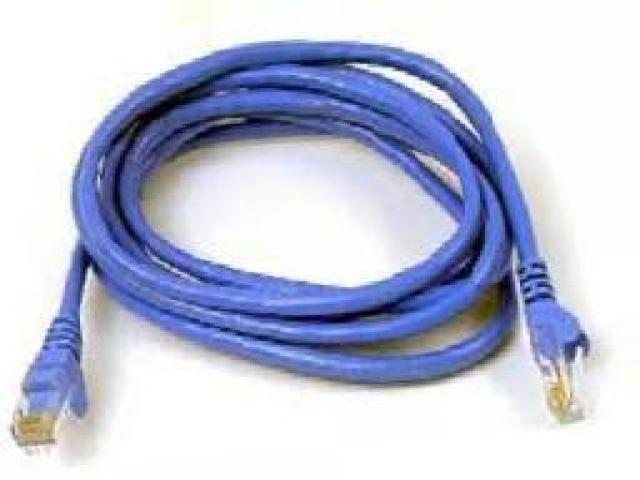wire: (8, 36, 590, 450)
